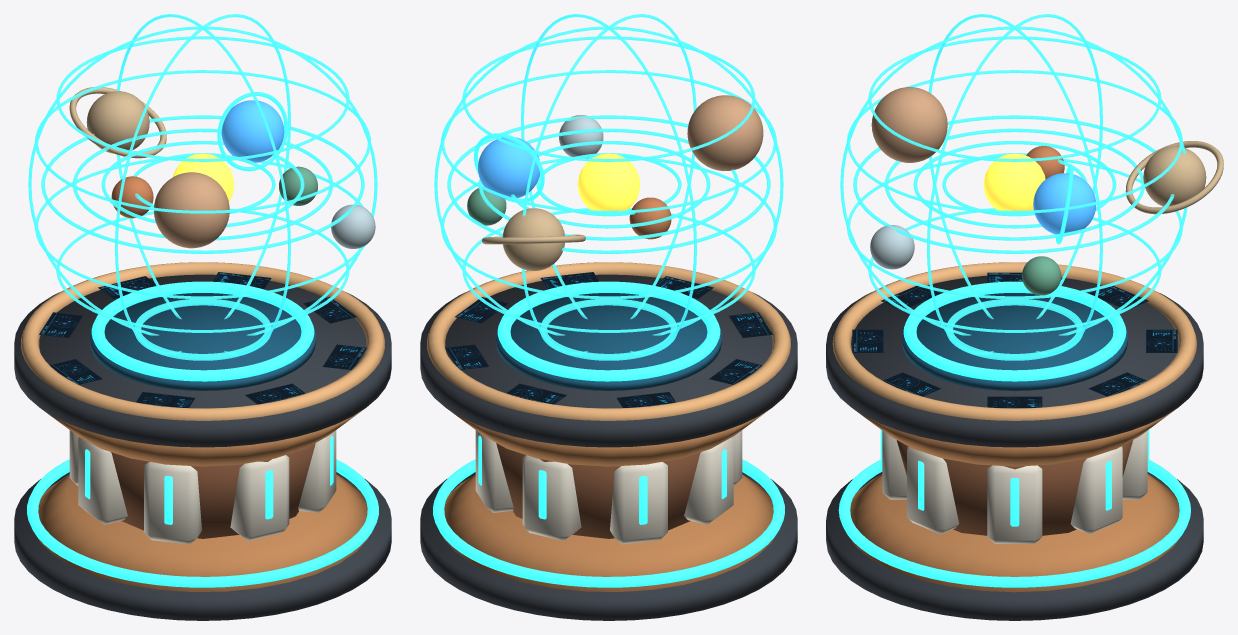
Rendered from Planet_Selector.glb.
3 renders of one model, left to right at view 1: azimuth 30°, elevation 25°; view 2: azimuth 150°, elevation 25°; view 3: azimuth 270°, elevation 25°, orthographic.
Parts seen in each view (by area): view 1: Root, Hologram, Planet_03_GasGiant, Planet_01_Terrestrial, Planet_05_Ringed, Planet_04_Ice, Planet_02_Red, Planet_06_Green; view 2: Root, Hologram, Planet_03_GasGiant, Planet_05_Ringed, Planet_01_Terrestrial, Planet_04_Ice, Planet_02_Red, Planet_06_Green; view 3: Root, Hologram, Planet_03_GasGiant, Planet_05_Ringed, Planet_01_Terrestrial, Planet_04_Ice, Planet_06_Green, Planet_02_Red.
Boxes of the visible parts, <box> form: Root: <box>14,262,391,620</box>; Hologram: <box>28,14,377,355</box>; Planet_03_GasGiant: <box>154,172,229,248</box>; Planet_01_Terrestrial: <box>217,92,288,171</box>; Planet_05_Ringed: <box>69,87,166,158</box>; Planet_04_Ice: <box>331,204,375,248</box>; Planet_02_Red: <box>111,176,153,218</box>; Planet_06_Green: <box>279,166,317,205</box>; Root: <box>420,262,797,620</box>; Hologram: <box>434,14,783,355</box>; Planet_03_GasGiant: <box>687,95,763,170</box>; Planet_05_Ringed: <box>482,208,585,270</box>; Planet_01_Terrestrial: <box>474,133,544,202</box>; Planet_04_Ice: <box>559,115,603,158</box>; Planet_02_Red: <box>629,197,671,239</box>; Planet_06_Green: <box>467,188,506,225</box>; Root: <box>826,262,1203,620</box>; Hologram: <box>840,14,1187,355</box>; Planet_03_GasGiant: <box>871,87,947,162</box>; Planet_05_Ringed: <box>1125,141,1223,214</box>; Planet_01_Terrestrial: <box>1033,164,1096,244</box>; Planet_04_Ice: <box>870,225,914,269</box>; Planet_06_Green: <box>1022,256,1061,295</box>; Planet_02_Red: <box>1026,146,1064,179</box>.
Size of the model in its own units: 1.44 by 2.17 by 1.52.
Materials: 16 (1 with a texture image).
